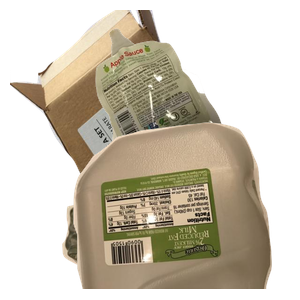cardboard: (10, 10, 227, 190)
glass: (60, 120, 300, 300)
plastic: (71, 120, 300, 300)
trash: (93, 26, 300, 200)
